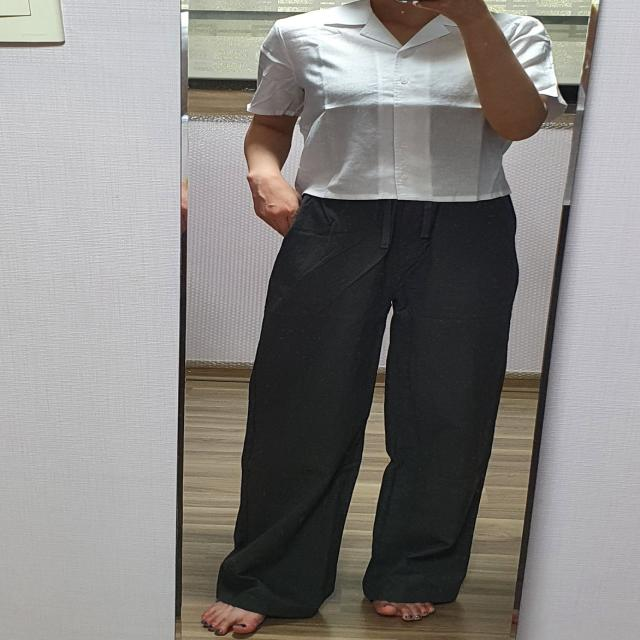shirt: (251, 5, 567, 204)
slacks: (219, 197, 524, 626)
